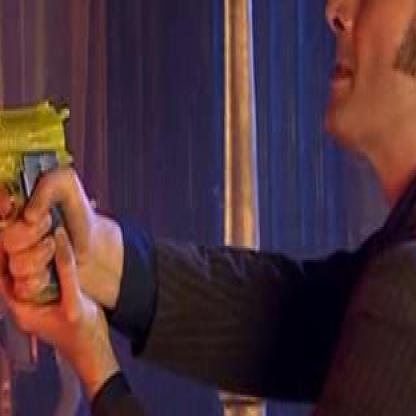gun: (0, 90, 84, 328)
